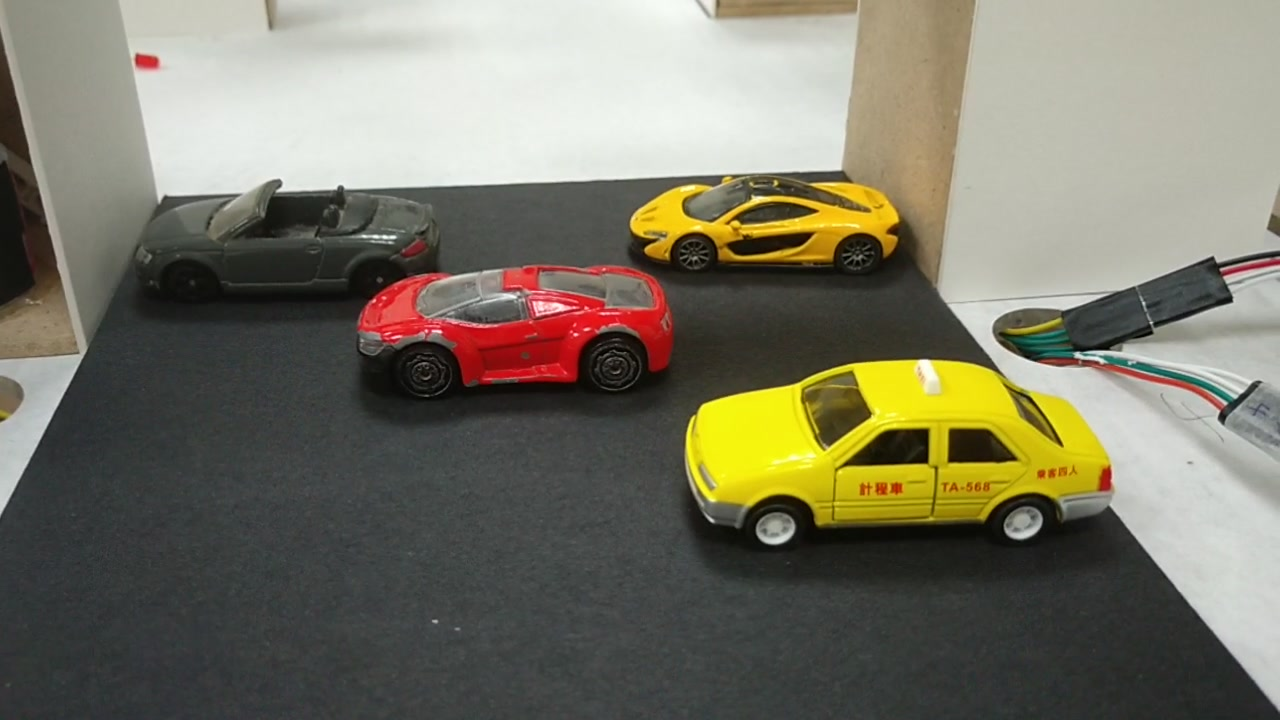car: (691, 355, 1111, 536), (363, 269, 674, 385), (131, 191, 444, 284), (626, 173, 899, 272)
